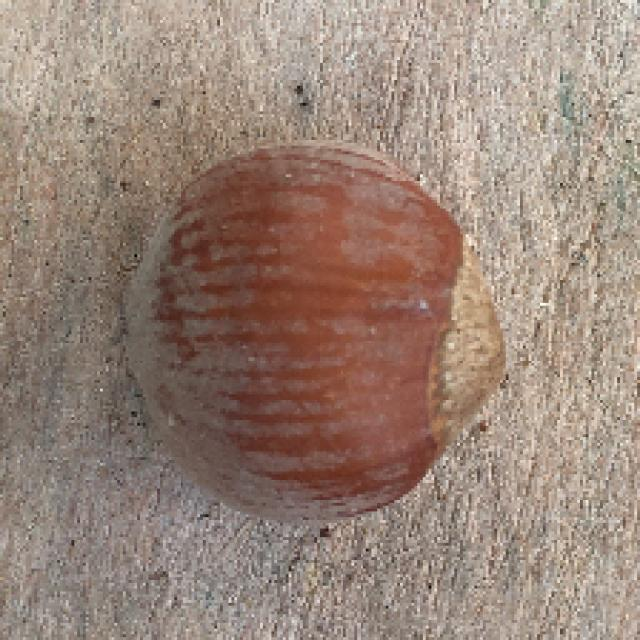qualityHazelnut: (124, 132, 520, 533)
